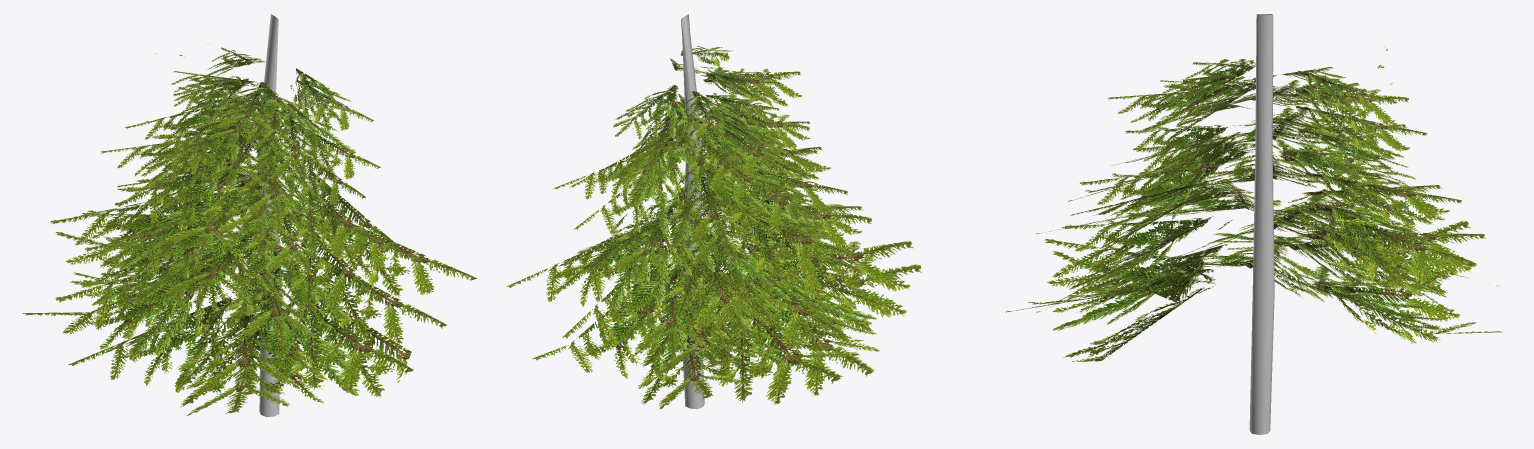
Rendered from QuarterFirTree.fbx.
The picture shows the model from 3 angles, left to right: view 1: azimuth 30°, elevation 25°; view 2: azimuth 150°, elevation 25°; view 3: azimuth 270°, elevation 25°; orthographic projection. The views are drawn at different scales.
Visible parts, largest first — view 1: FirTreeBranches, Trunk; view 2: FirTreeBranches, Trunk; view 3: FirTreeBranches, Trunk.
Boxes of the visible parts, left/top/right/bottom form: FirTreeBranches: left=22, top=47, right=477, bottom=415; Trunk: left=257, top=14, right=281, bottom=416; FirTreeBranches: left=506, top=46, right=921, bottom=408; Trunk: left=679, top=14, right=704, bottom=409; FirTreeBranches: left=1006, top=47, right=1502, bottom=361; Trunk: left=1249, top=14, right=1274, bottom=434.
Size of the model in its own units: 444 by 480 by 559.
